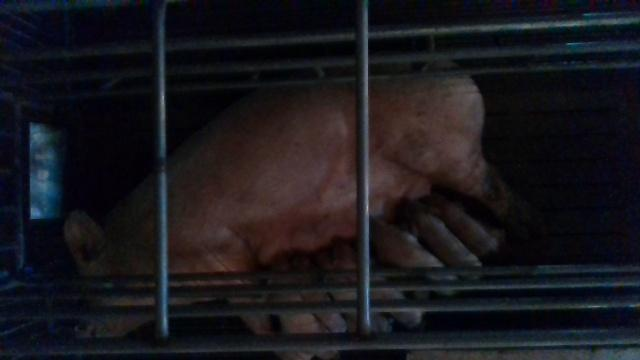piglet: (370, 221, 457, 293), (269, 272, 338, 360), (342, 250, 420, 327), (317, 259, 392, 331), (411, 211, 481, 279), (427, 200, 499, 256), (294, 271, 348, 333)
sow-sleep-lactate: (67, 67, 508, 340)
